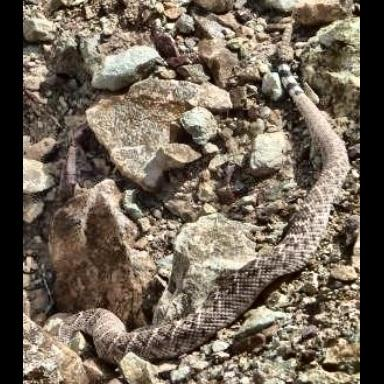snake: (23, 0, 360, 384)
